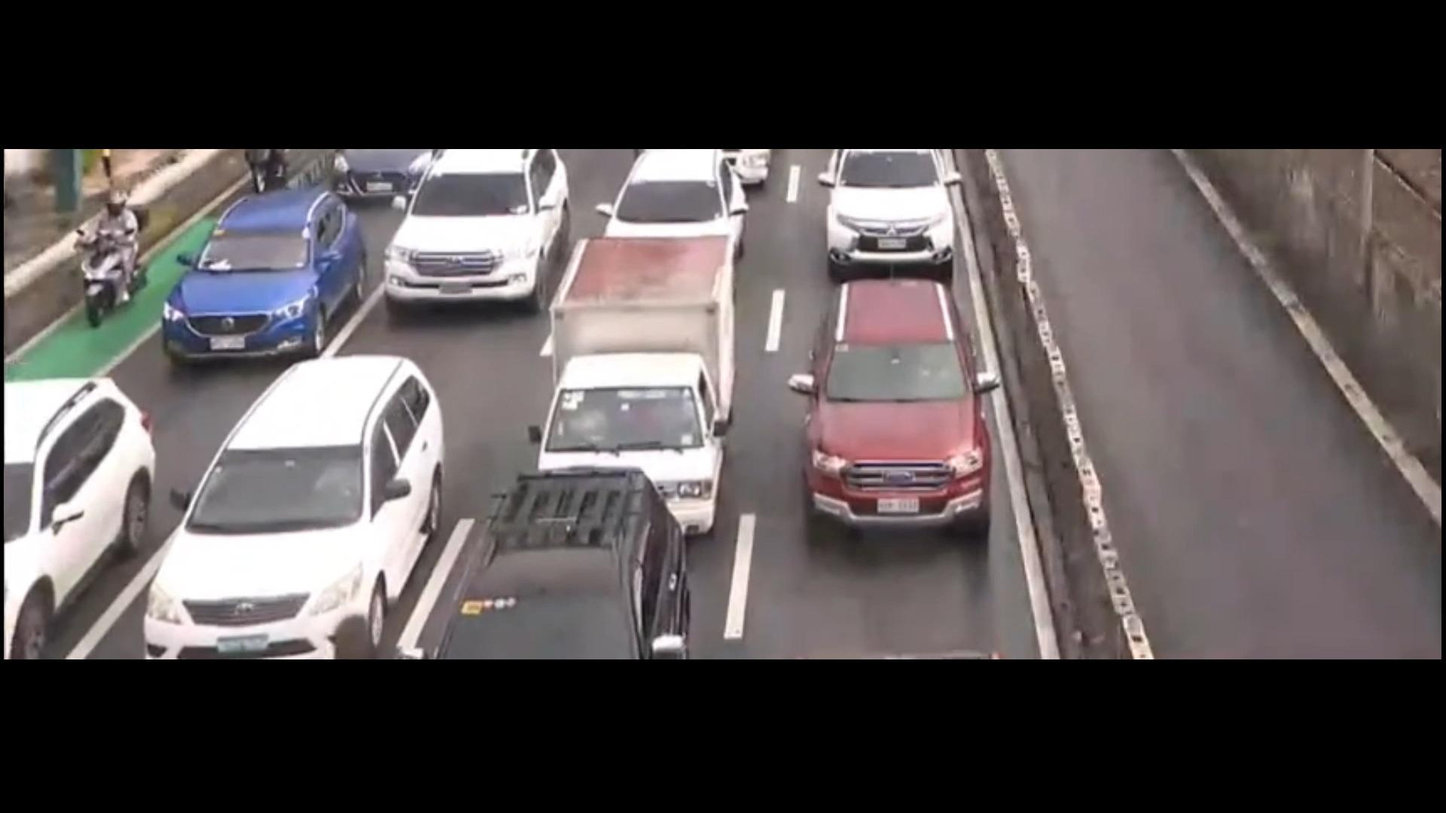Motorcycle: (56, 175, 149, 335)
SUV: (137, 358, 433, 653), (422, 470, 693, 672), (802, 286, 994, 544), (0, 376, 160, 659), (395, 151, 561, 318), (815, 147, 964, 280), (618, 152, 746, 273)
Sedan: (168, 190, 369, 365)
Truck: (535, 237, 742, 553)
